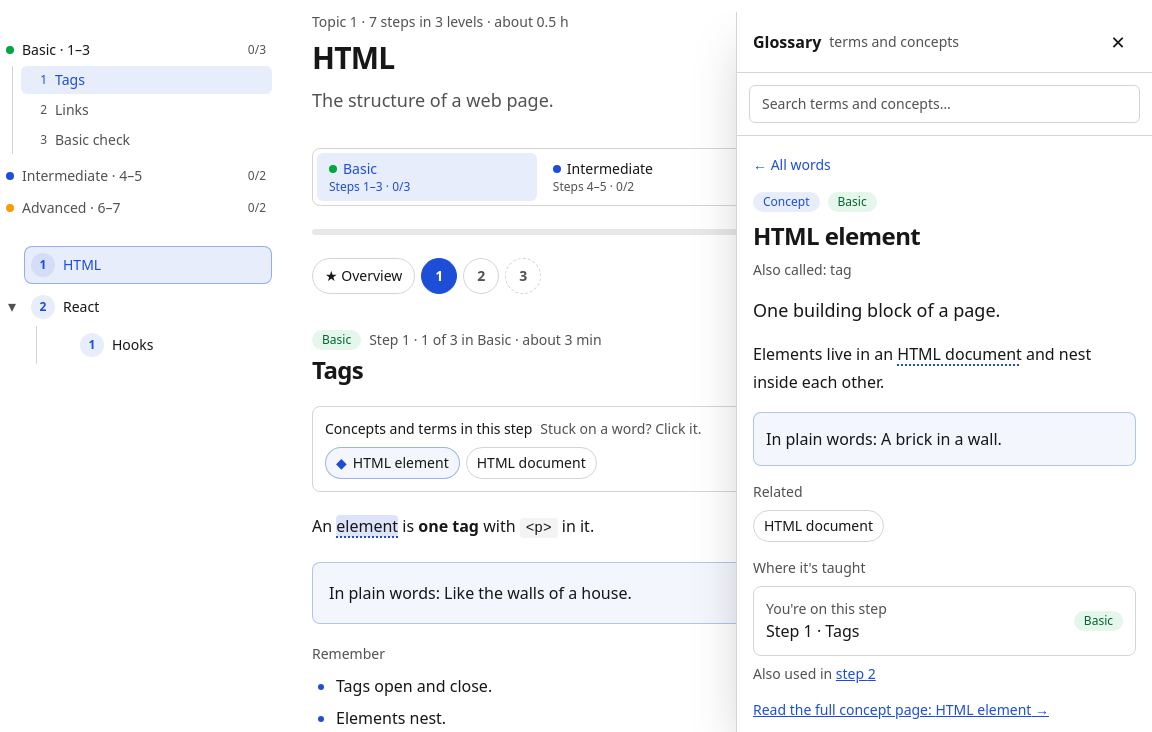
it: GlossaryPanel › follows a word inside an explanation, with a trail and Back
Expected: the heading "HTML element" is shown, [753, 219, 920, 252]
Click the link "HTML document" next to "Elements live in an": (960, 354) [897, 343, 1022, 365]
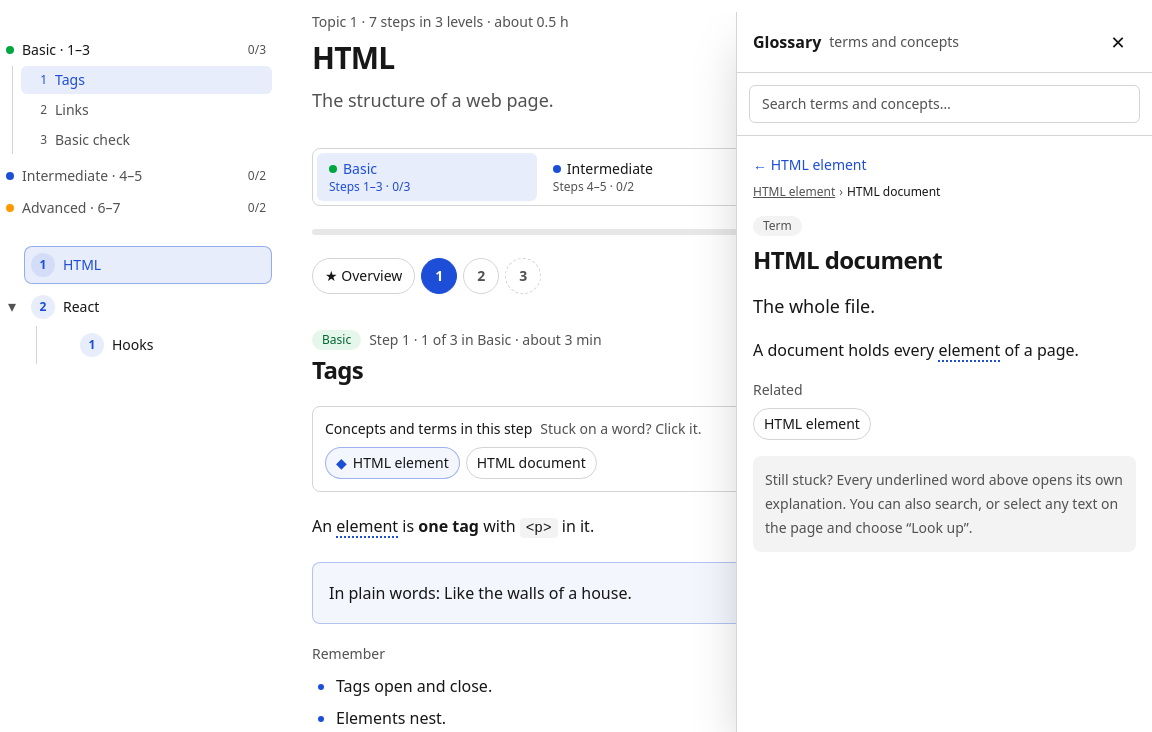
Expected: the heading "HTML document" is shown, [753, 243, 942, 276]
Expected: the navigation bar named "Words you looked up" reads "HTML element › HTML document", [753, 183, 940, 200]
Click the button "← HTML element": (810, 165) [753, 155, 867, 175]
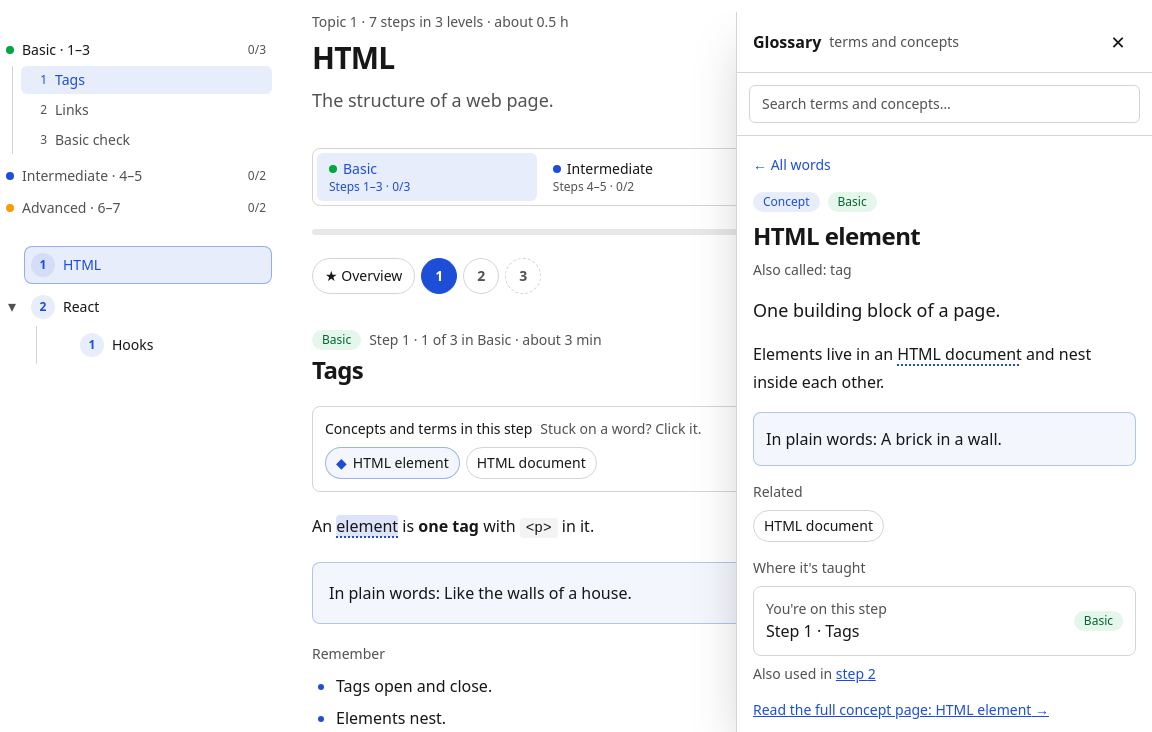
Expected: the heading "HTML element" is shown, [753, 219, 920, 252]
